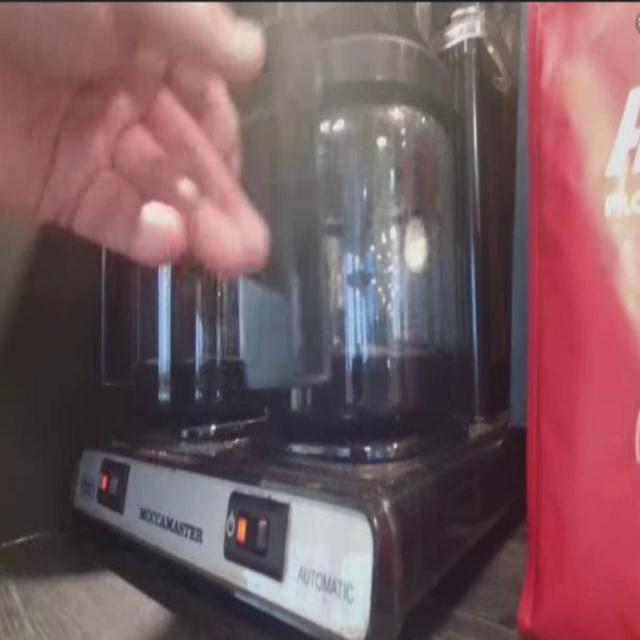coffee: (287, 121, 449, 430), (123, 275, 263, 418)
